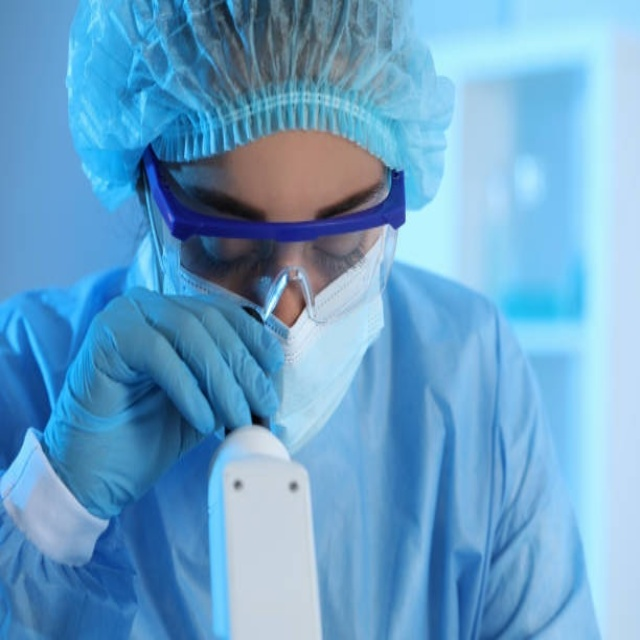Gafas: (143, 146, 405, 332)
Guantes: (38, 285, 284, 531)
Mascara: (147, 231, 387, 461)
